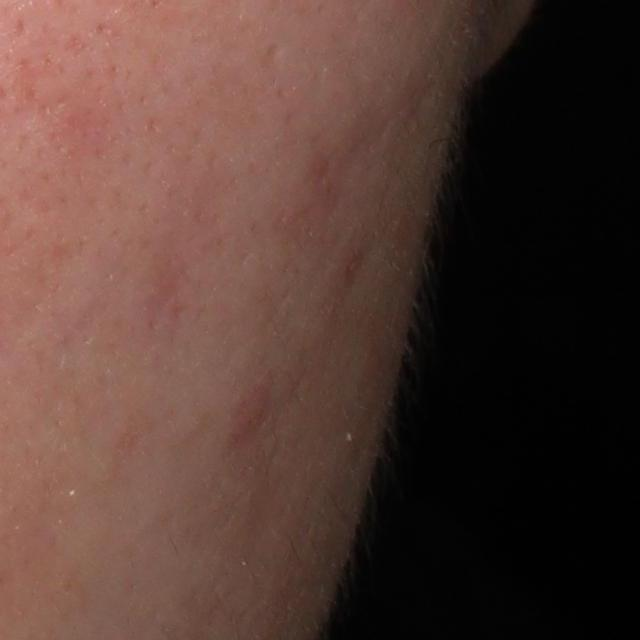papule: (230, 377, 275, 441)
